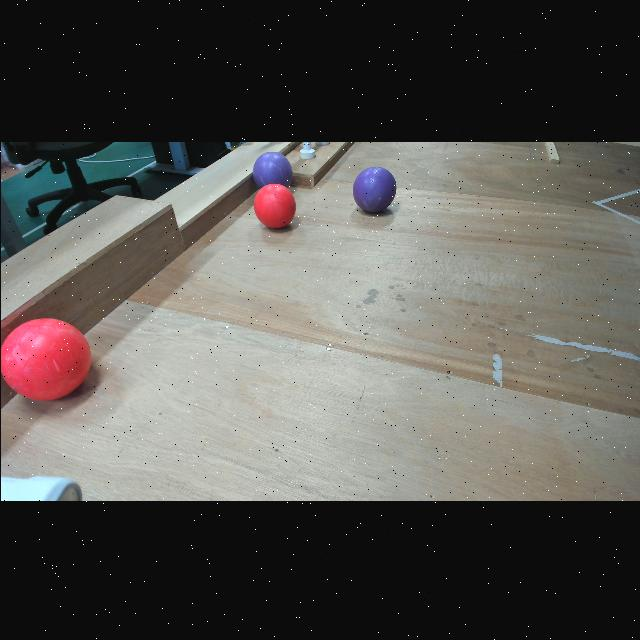P: (352, 164, 396, 212), (251, 149, 293, 189)
R: (0, 316, 90, 400), (252, 182, 296, 228)
